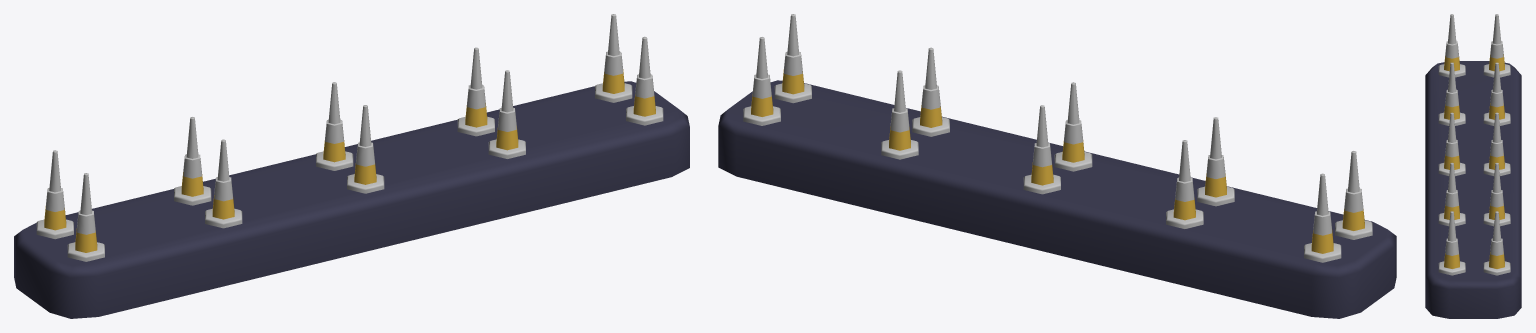
File: Level21_Spikes.fbx
The picture shows the model from 3 angles, left to right: view 1: azimuth 30°, elevation 25°; view 2: azimuth 150°, elevation 25°; view 3: azimuth 270°, elevation 25°; orthographic projection. The views are drawn at different scales.
Visible parts, largest first — view 1: Base, spike4, spike7, spike5, spike9, spike, spike1, spike2, spike8, spike6, spike3, Base_spike; view 2: Base, spike1, spike8, spike, spike3, spike4, spike6, spike9, spike5, spike7, spike2, Base_spike (×2); view 3: Base, Base_spike (×10), spike9, spike8, spike2, spike4, spike1, spike5, spike3, spike, spike6, spike7.
Boxes of the visible parts, <box> form: Base: <box>14,81,689,318</box>; spike4: <box>354,105,376,184</box>; spike7: <box>465,47,487,127</box>; spike5: <box>323,82,345,162</box>; spike9: <box>602,14,624,93</box>; spike: <box>44,150,66,230</box>; spike1: <box>181,117,203,196</box>; spike2: <box>212,139,234,219</box>; spike8: <box>633,36,655,116</box>; spike6: <box>496,70,518,150</box>; spike3: <box>75,173,97,252</box>; Base_spike: <box>316,151,353,170</box>; Base: <box>718,80,1396,318</box>; spike1: <box>1173,140,1195,220</box>; spike8: <box>782,14,804,94</box>; spike: <box>1311,173,1333,253</box>; spike3: <box>1342,151,1364,230</box>; spike4: <box>1062,82,1084,162</box>; spike6: <box>920,47,942,127</box>; spike9: <box>751,37,773,116</box>; spike5: <box>1031,105,1053,185</box>; spike7: <box>889,70,910,150</box>; spike2: <box>1205,117,1226,197</box>; Base_spike (×2): <box>1054,152,1341,262</box>; Base: <box>1425,61,1521,318</box>; Base_spike (×10): <box>1438,64,1510,275</box>; spike9: <box>1489,211,1504,268</box>; spike8: <box>1444,211,1459,268</box>; spike2: <box>1444,62,1459,119</box>; spike4: <box>1444,112,1459,169</box>; spike1: <box>1489,62,1504,119</box>; spike5: <box>1489,112,1504,169</box>; spike3: <box>1444,14,1459,71</box>; spike: <box>1489,14,1504,71</box>; spike6: <box>1444,162,1459,219</box>; spike7: <box>1489,163,1504,219</box>.
Size of the model in its own units: 91.3 by 17.49 by 16.52.
